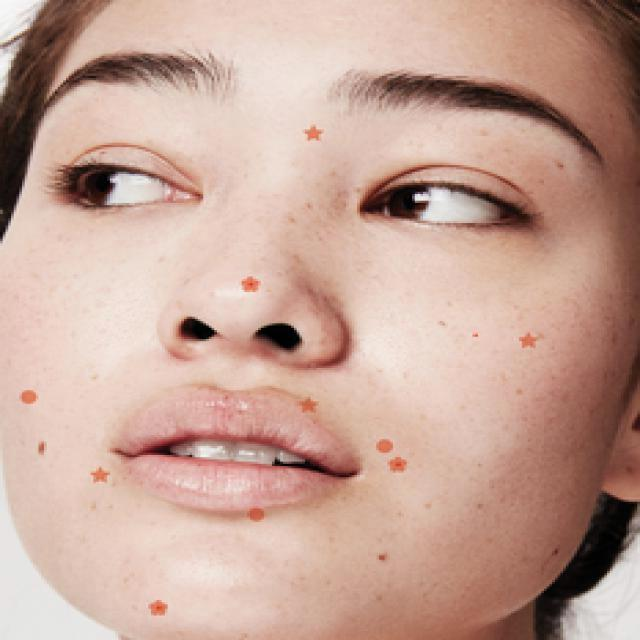Pimples: (302, 120, 327, 143), (519, 332, 541, 350), (393, 457, 409, 477), (30, 439, 47, 457), (242, 274, 258, 292), (19, 388, 36, 404), (250, 506, 266, 522), (302, 397, 319, 410), (376, 438, 393, 450), (90, 471, 108, 482), (148, 606, 162, 614), (160, 598, 168, 608)
